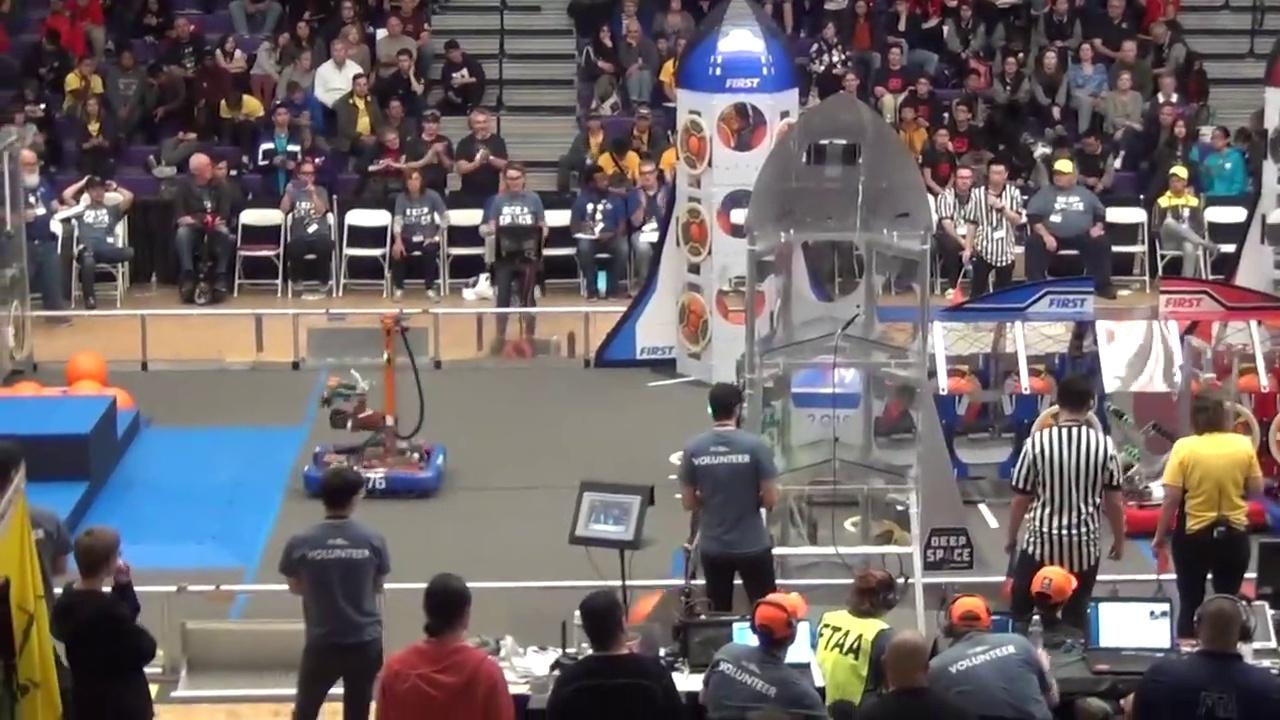robot: (296, 303, 454, 500)
